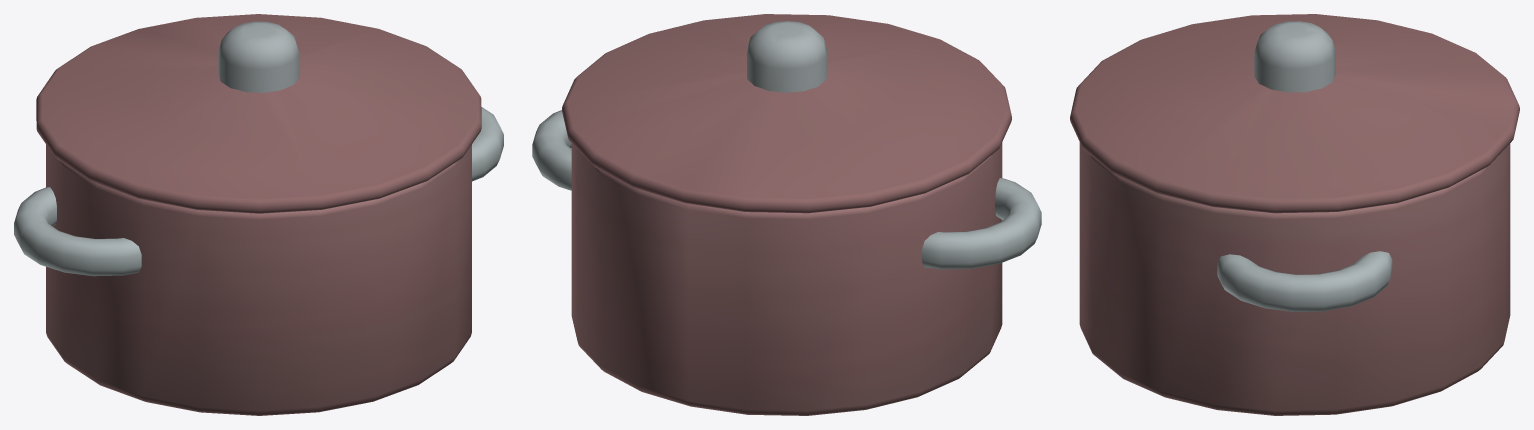
Rendered from BigPan.fbx.
The picture shows the model from 3 angles, left to right: view 1: azimuth 30°, elevation 25°; view 2: azimuth 150°, elevation 25°; view 3: azimuth 270°, elevation 25°; orthographic projection.
Visible parts, largest first — view 1: Cylinder.010, Cylinder.011, Circle.016; view 2: Cylinder.010, Cylinder.011, Circle.016; view 3: Cylinder.010, Cylinder.011, Circle.016.
Boxes of the visible parts, x1=… form: Cylinder.010: x1=46, y1=144, x2=471, y2=415; Cylinder.011: x1=36, y1=14, x2=481, y2=213; Circle.016: x1=14, y1=107, x2=503, y2=276; Cylinder.010: x1=571, y1=142, x2=1002, y2=415; Cylinder.011: x1=562, y1=14, x2=1011, y2=213; Circle.016: x1=532, y1=110, x2=1041, y2=269; Cylinder.010: x1=1079, y1=142, x2=1510, y2=415; Cylinder.011: x1=1070, y1=14, x2=1519, y2=213; Circle.016: x1=1217, y1=251, x2=1392, y2=311.
Bounding box in the file's own units: 4.79 × 2.88 × 3.93.
